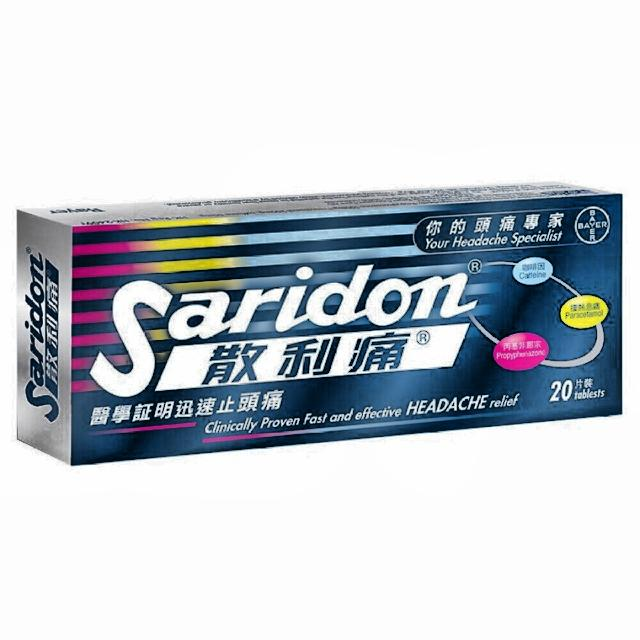Saridon: (76, 261, 509, 404)
